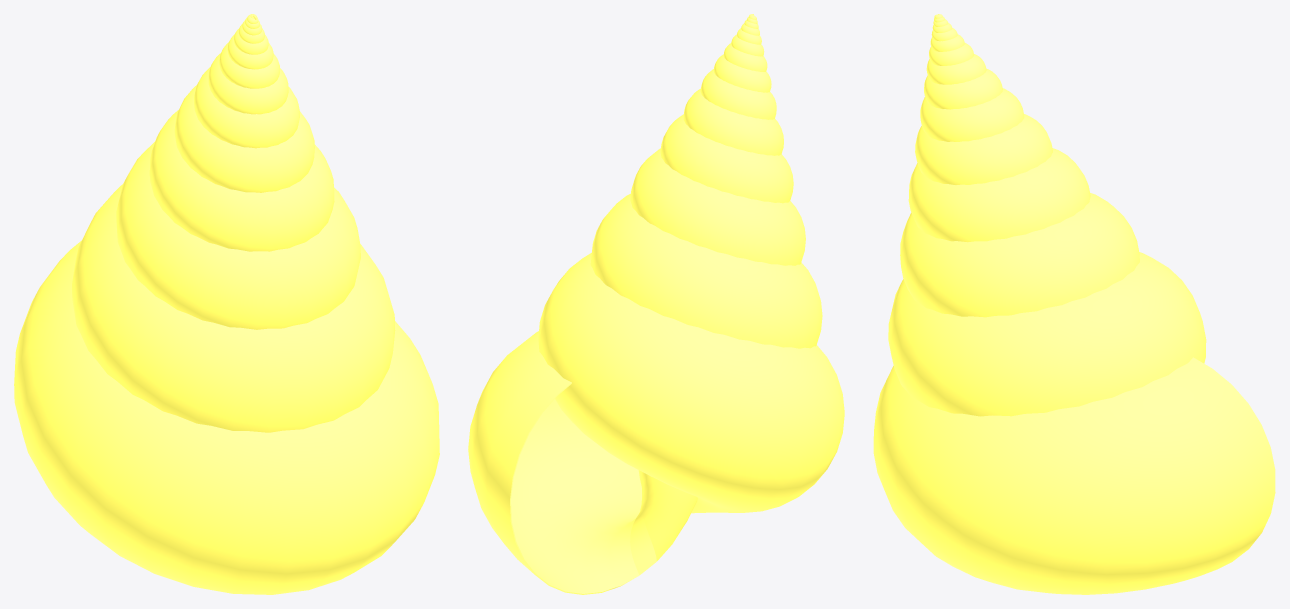
The model's file is Muschel.gltf.
3 renders of one model, left to right at view 1: azimuth 30°, elevation 25°; view 2: azimuth 150°, elevation 25°; view 3: azimuth 270°, elevation 25°, orthographic. The views are drawn at different scales.
Visible parts, largest first — view 1: Muschel; view 2: Muschel; view 3: Muschel.
Part boxes in pixels (left/top/right/bottom): Muschel: left=14, top=14, right=439, bottom=594; Muschel: left=468, top=14, right=844, bottom=594; Muschel: left=873, top=14, right=1275, bottom=594.
Bounding box in the file's own units: 2.72 × 4.23 × 2.86.
